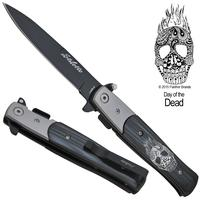knife: (1, 1, 153, 151)
